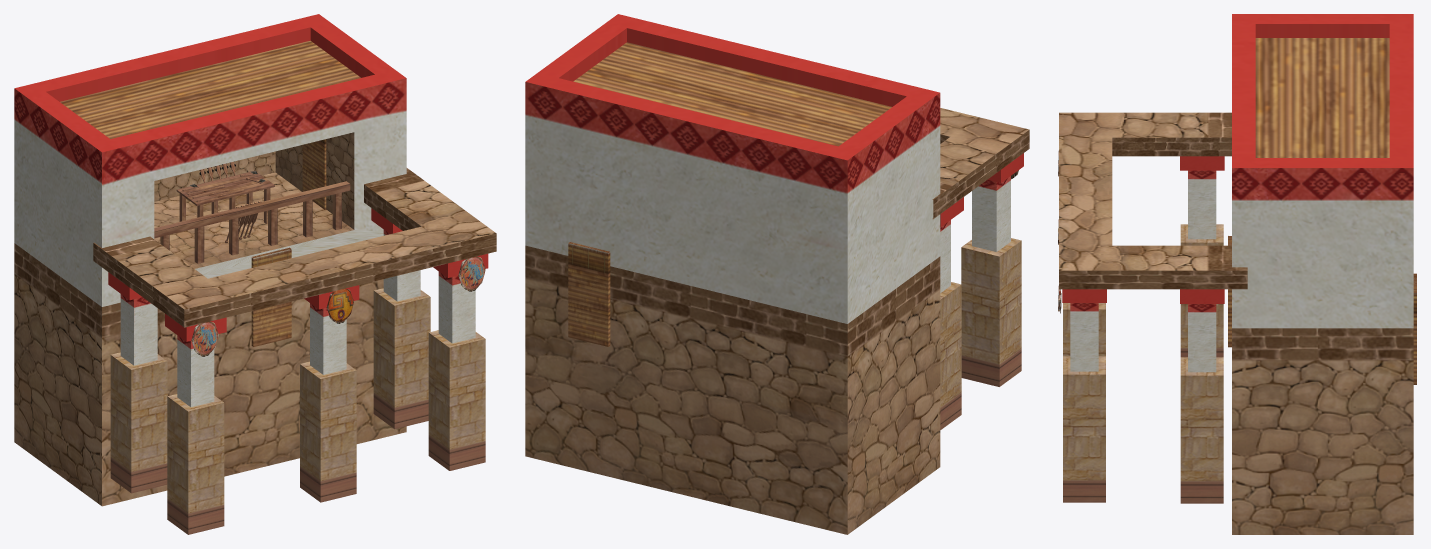
The model's file is mex_blacksmith.dae.
3 views of the same model, side by side, from view 1: azimuth 30°, elevation 25°; view 2: azimuth 150°, elevation 25°; view 3: azimuth 270°, elevation 25° (orthographic). The views are drawn at different scales.
Parts seen in each view (by area): view 1: Cube; view 2: Cube; view 3: Cube.
Boxes of the visible parts, x1=… form: Cube: x1=14, y1=14, x2=496, y2=534; Cube: x1=525, y1=14, x2=1029, y2=534; Cube: x1=1058, y1=14, x2=1416, y2=534.
Size of the model in its own units: 17.78 by 17.08 by 19.27.
